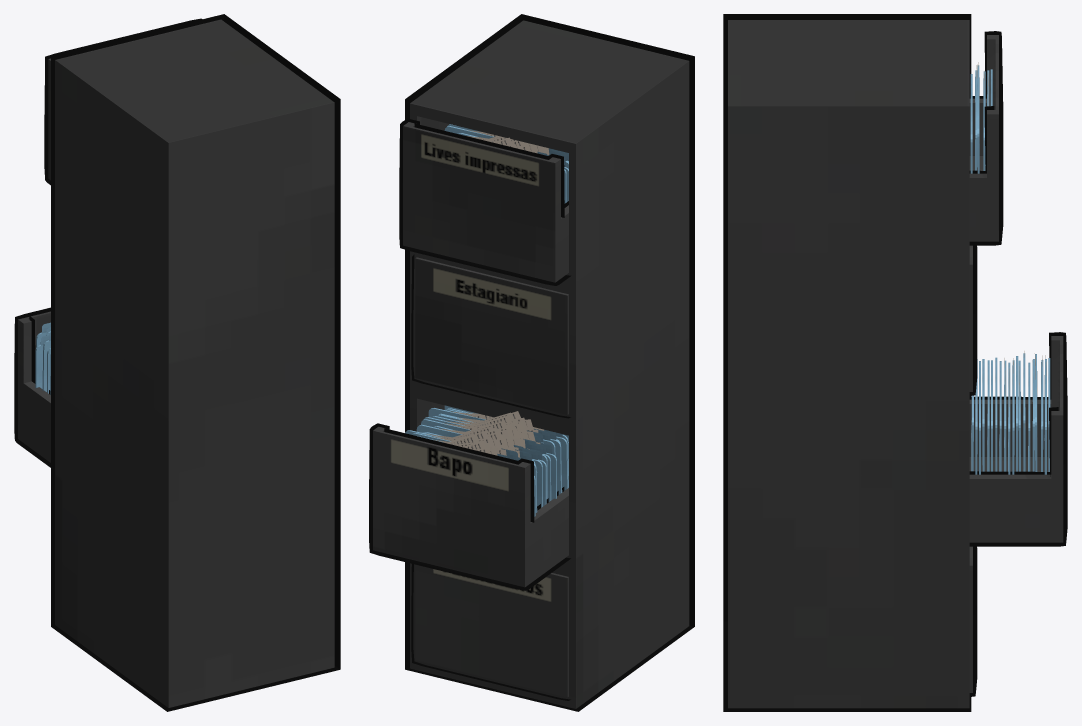
File: Armario 3.glb
3 renders of one model, left to right at view 1: azimuth 30°, elevation 25°; view 2: azimuth 150°, elevation 25°; view 3: azimuth 270°, elevation 25°, orthographic. The views are drawn at different scales.
Parts seen in each view (by area): view 1: Docs 3; view 2: Docs 3; view 3: Docs 3.
Boxes of the visible parts, <box> form: Docs 3: <box>14,14,340,711</box>; Docs 3: <box>369,14,694,711</box>; Docs 3: <box>723,14,1067,711</box>.
Size of the model in its own units: 0.345 by 1.08 by 0.5566.
3 materials, 2 textured.
